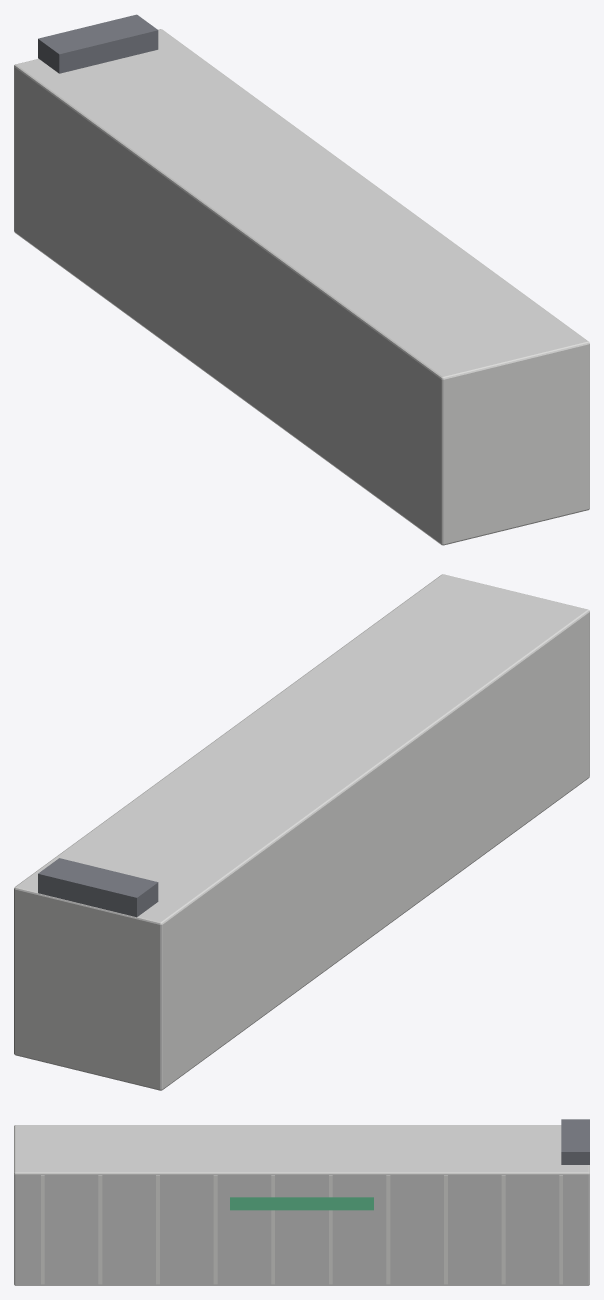
Rendered from battery.glb.
3 renders of one model, top to bottom at view 1: azimuth 30°, elevation 25°; view 2: azimuth 150°, elevation 25°; view 3: azimuth 270°, elevation 25°, orthographic. The views are drawn at different scales.
Parts seen in each view (by area): view 1: box, hvac; view 2: box, hvac; view 3: box, label, hvac, rib1, rib3, rib6, rib8, rib0, rib2, rib7, rib9, rib4 (+1 smaller).
Boxes of the visible parts, box(x1,y1,x2,y2) form: box: box(14, 29, 589, 545); hvac: box(38, 14, 158, 73); box: box(14, 574, 589, 1090); hvac: box(38, 858, 158, 917); box: box(14, 1125, 589, 1285); label: box(230, 1197, 373, 1210); hvac: box(561, 1119, 589, 1164); rib1: box(98, 1175, 102, 1284); rib3: box(213, 1175, 217, 1284); rib6: box(386, 1175, 390, 1284); rib8: box(501, 1175, 505, 1284); rib0: box(41, 1175, 44, 1284); rib2: box(156, 1175, 159, 1284); rib7: box(444, 1175, 447, 1284); rib9: box(559, 1175, 562, 1284); rib4: box(271, 1175, 274, 1284).
Size of the model in its own units: 2.42 by 2.9 by 12.
